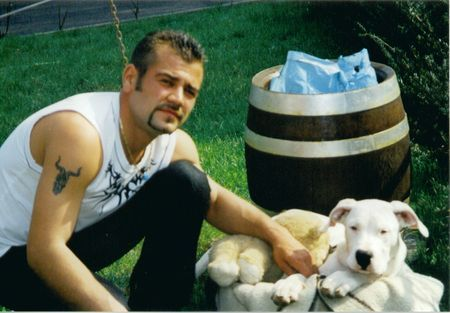dogo_argentino: (269, 196, 429, 307)
human_face: (121, 57, 204, 135)
person: (0, 28, 315, 313)
